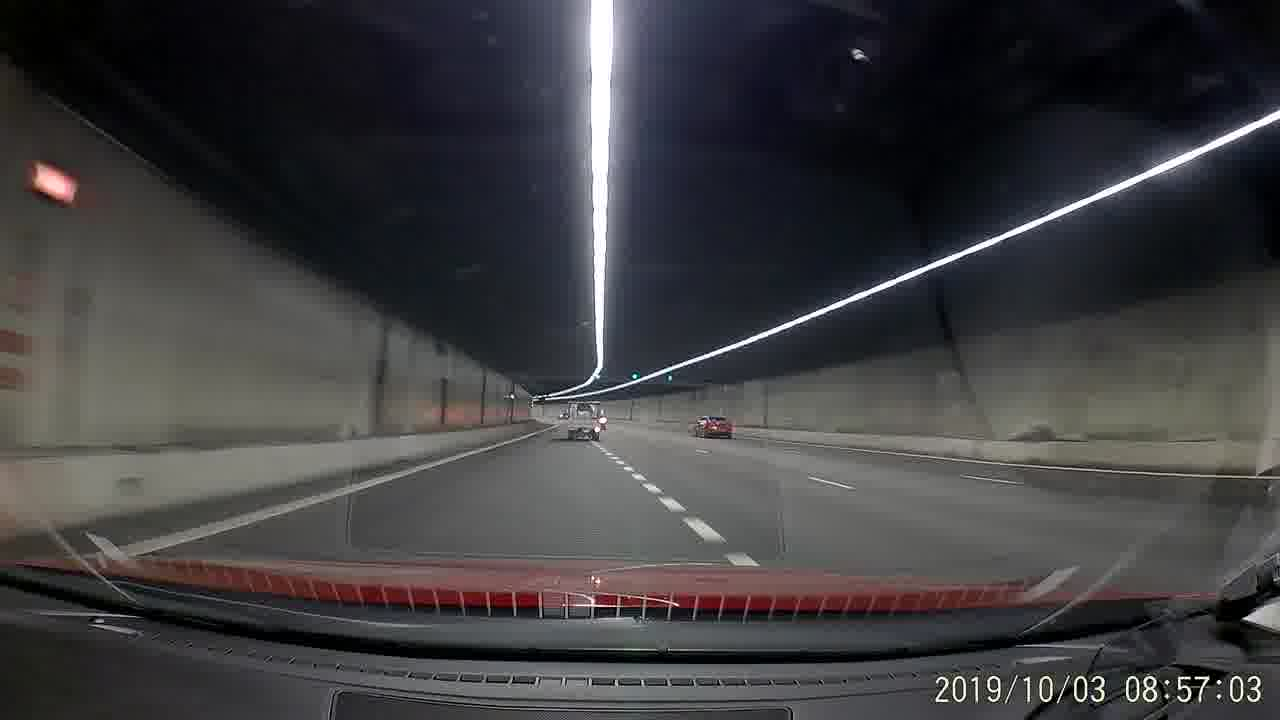car: (693, 413, 733, 442)
